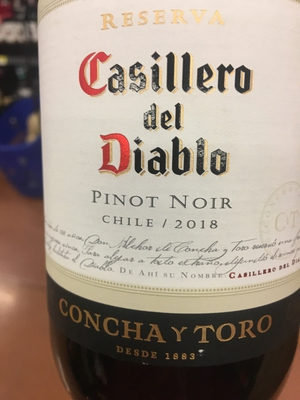casillero del diablo pinot noir: (36, 2, 300, 391)
